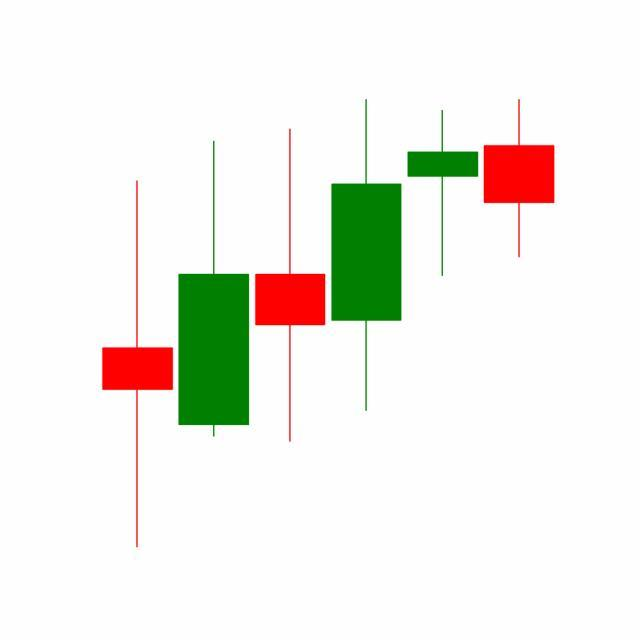Hikkake Pattern: (175, 99, 555, 446)
